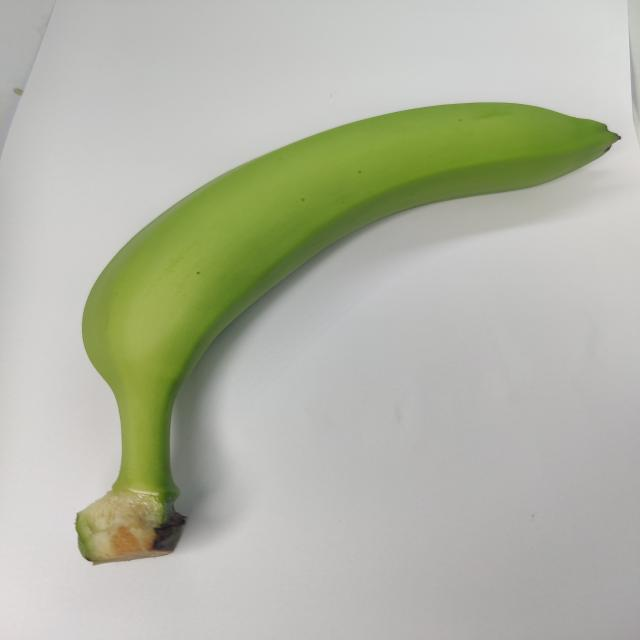raw: (41, 87, 618, 575)
